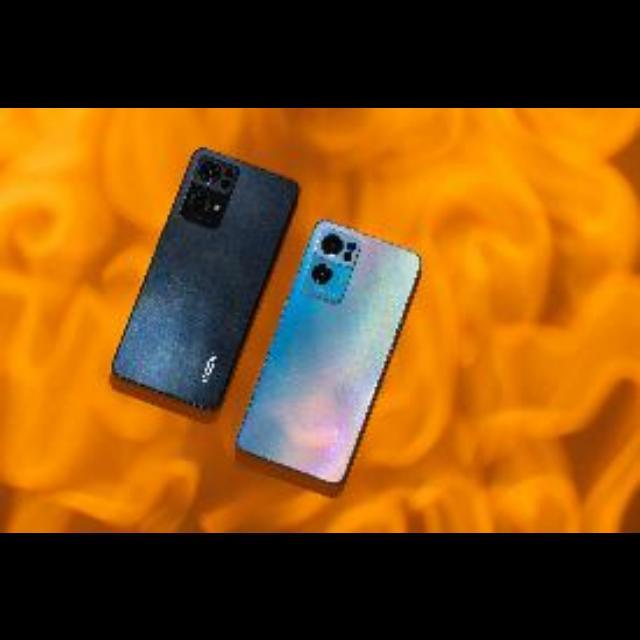Phone: (112, 144, 298, 410), (236, 220, 419, 482)
